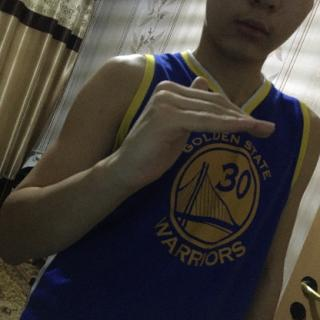KHAA: (112, 71, 284, 202)
